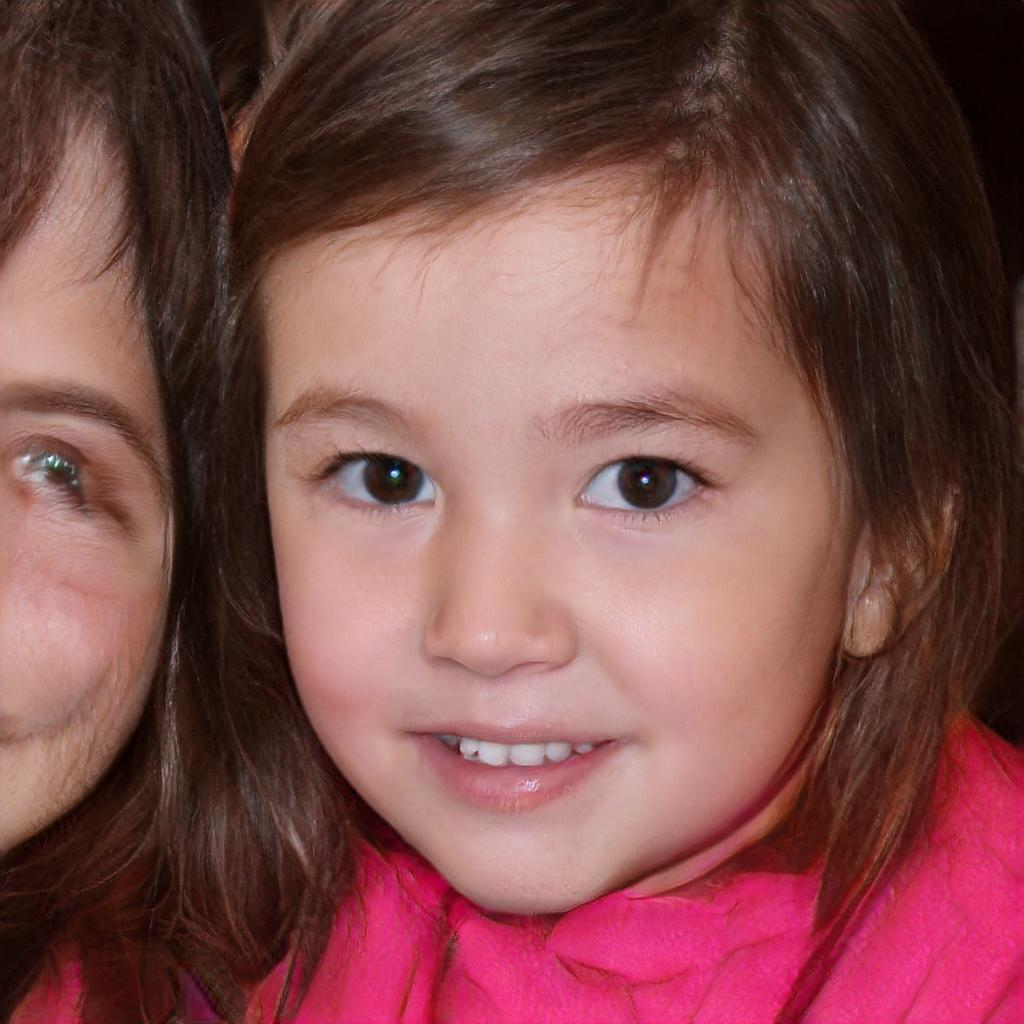face: (272, 184, 845, 915)
